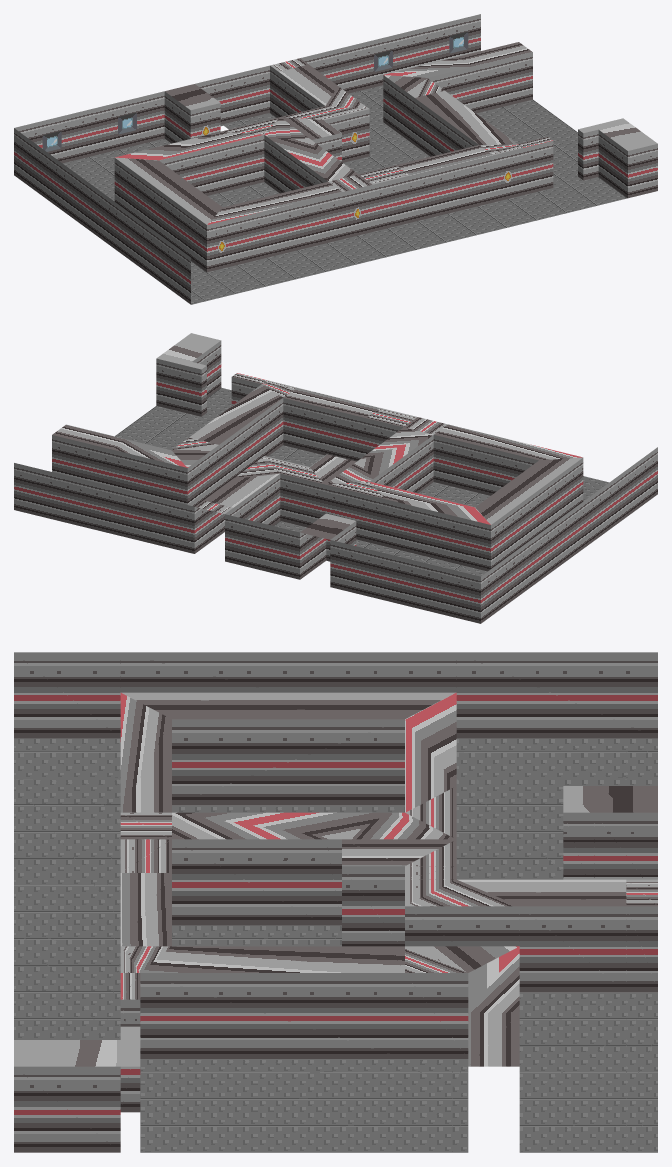
File: GALHQ6-2.obj
3 views of the same model, one above another, from view 1: azimuth 30°, elevation 25°; view 2: azimuth 150°, elevation 25°; view 3: azimuth 270°, elevation 25° (orthographic). The views are drawn at different scales.
Visible parts, largest first — view 1: m_dun2603_00_00c; view 2: m_dun2603_00_00c; view 3: m_dun2603_00_00c.
Boxes of the visible parts, left/top/right/bottom form: m_dun2603_00_00c: left=14, top=14, right=657, bottom=304; m_dun2603_00_00c: left=14, top=333, right=657, bottom=623; m_dun2603_00_00c: left=14, top=652, right=657, bottom=1152.
Size of the model in its own units: 496 by 48 by 326.
